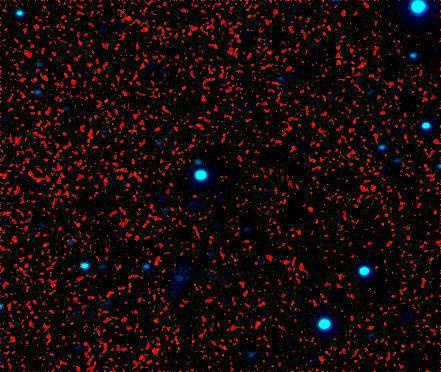star: (66, 30, 96, 60)
